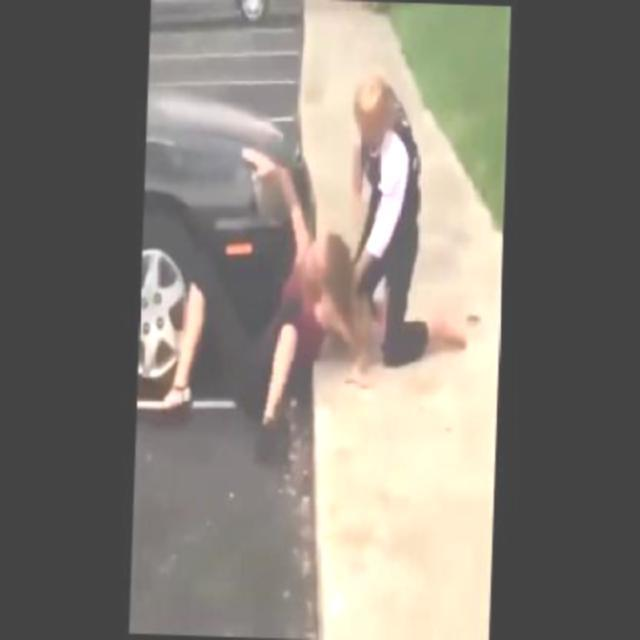fight: (275, 66, 480, 366)
